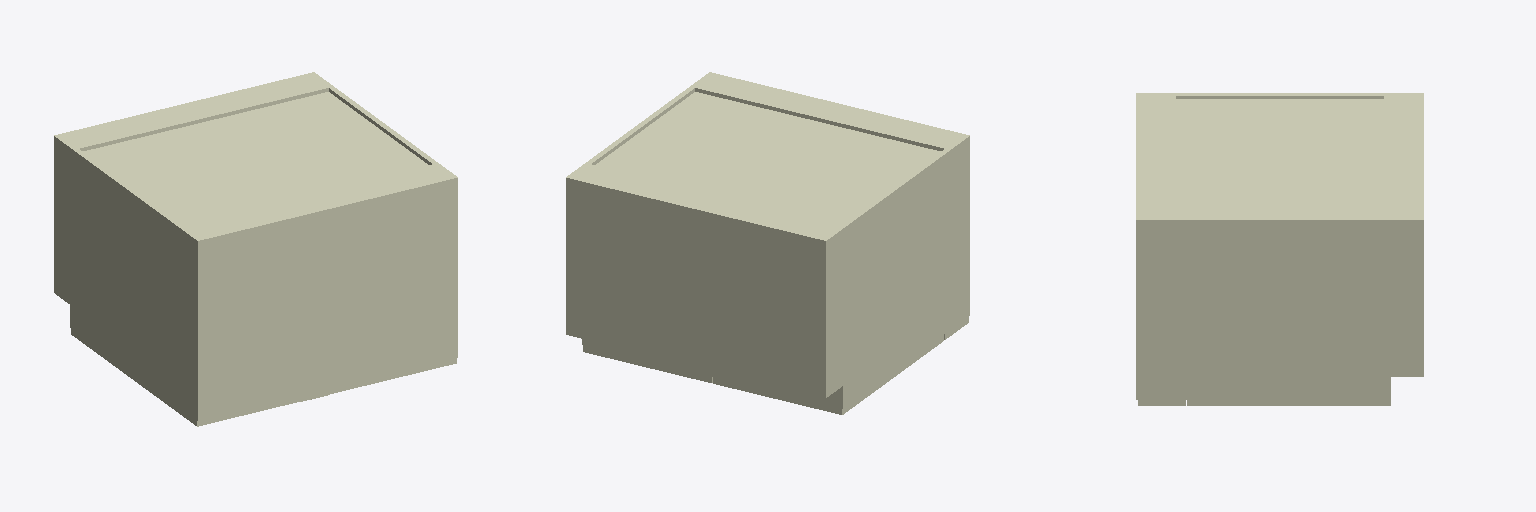
Rendered from cat3_Cabinet.obj.
The picture shows the model from 3 angles: view 1: azimuth 30°, elevation 25°; view 2: azimuth 150°, elevation 25°; view 3: azimuth 270°, elevation 25°; orthographic projection.
Parts seen in each view (by area): view 1: TP, BKP, FEL, Base, BR, RP, BP, DFP, LP, DR1P; view 2: Base, BKP, FEL, BR, BP, DR1P, RP, DR2P, LP, TP; view 3: FER, BKP, Base, BR, LP, DR2P, BP, TP.
Boxes of the visible parts, x1,y1,x2,y2 form: TP: [200, 177, 452, 419]; BKP: [83, 92, 427, 224]; FEL: [70, 148, 197, 420]; Base: [54, 72, 329, 303]; BR: [184, 164, 449, 236]; RP: [326, 84, 457, 358]; BP: [76, 86, 328, 150]; DFP: [173, 358, 456, 426]; LP: [71, 147, 202, 420]; DR1P: [71, 329, 172, 408]; Base: [566, 165, 842, 397]; BKP: [596, 92, 940, 224]; FEL: [843, 136, 969, 407]; BR: [695, 76, 961, 150]; BP: [588, 164, 839, 406]; DR1P: [713, 335, 943, 414]; RP: [582, 72, 714, 346]; DR2P: [583, 346, 712, 382]; LP: [837, 134, 969, 408]; TP: [712, 73, 964, 135]; FER: [1136, 220, 1390, 399]; BKP: [1176, 99, 1383, 217]; Base: [1391, 93, 1423, 376]; BR: [1142, 96, 1175, 217]; LP: [1136, 93, 1390, 98]; DR2P: [1187, 400, 1390, 405]; BP: [1384, 96, 1390, 217]; TP: [1136, 96, 1141, 217].
Size of the model in its own units: 36 by 26.25 by 34.5.